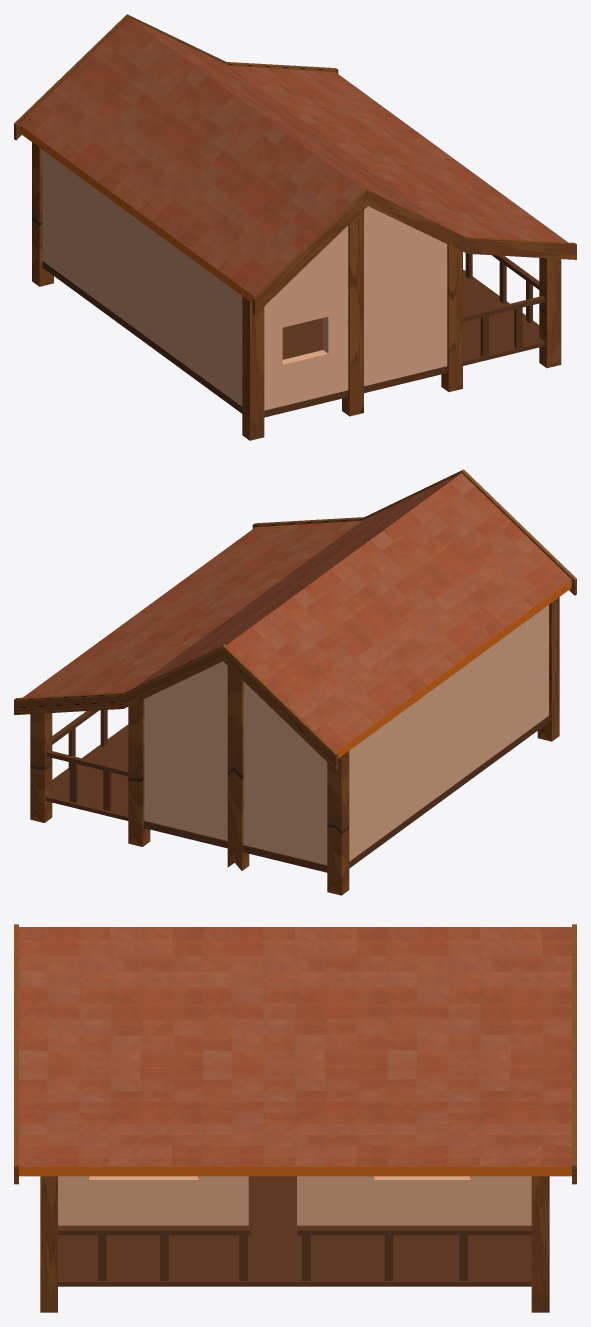
The model's file is cabin.glb.
3 renders of one model, top to bottom at view 1: azimuth 30°, elevation 25°; view 2: azimuth 150°, elevation 25°; view 3: azimuth 270°, elevation 25°, orthographic. The views are drawn at different scales.
Visible parts, largest first — view 1: roof, wall-back, wall-side, wall-side2, roof-sideboard, beam.002, floor, mat-wood-solid, beam, beam.001, beam.004, roof-sideboard.001 (+1 smaller); view 2: roof, wall-back, wall-side, wall-side3, roof-sideboard.001, beam.002, mat-wood-solid, beam, floor, beam.004, beam.001, roof-sideboard (+1 smaller); view 3: roof, mat-wood-solid, wall-front, beam.001, floor, bannister.003, bannister.002, roof-sideboard, roof-sideboard.001.
Boxes of the visible parts, bbox=[...] form: roof: bbox=[19, 18, 567, 303]; wall-back: bbox=[42, 150, 242, 406]; wall-side: bbox=[364, 206, 447, 386]; wall-side2: bbox=[264, 225, 348, 410]; roof-sideboard: bbox=[252, 189, 576, 314]; beam.002: bbox=[32, 142, 264, 440]; floor: bbox=[42, 261, 447, 417]; mat-wood-solid: bbox=[463, 269, 545, 365]; beam: bbox=[342, 210, 363, 416]; beam.001: bbox=[539, 258, 561, 368]; beam.004: bbox=[441, 244, 462, 391]; roof-sideboard.001: bbox=[14, 14, 338, 140]; roof: bbox=[23, 473, 571, 758]; wall-back: bbox=[349, 605, 548, 861]; wall-side: bbox=[144, 661, 227, 840]; wall-side3: bbox=[243, 681, 327, 864]; roof-sideboard.001: bbox=[14, 644, 338, 770]; beam.002: bbox=[327, 597, 559, 895]; mat-wood-solid: bbox=[45, 724, 128, 820]; beam: bbox=[227, 666, 249, 870]; floor: bbox=[143, 716, 548, 872]; beam.004: bbox=[128, 699, 150, 846]; beam.001: bbox=[30, 713, 52, 822]; roof-sideboard: bbox=[252, 469, 576, 595]; roof: bbox=[19, 927, 571, 1176]; mat-wood-solid: bbox=[58, 1225, 531, 1286]; wall-front: bbox=[58, 1176, 531, 1225]; beam.001: bbox=[40, 1176, 549, 1312]; floor: bbox=[248, 1176, 296, 1225]; bannister.003: bbox=[297, 1228, 531, 1235]; bannister.002: bbox=[58, 1228, 250, 1235]; roof-sideboard: bbox=[14, 924, 18, 1184]; roof-sideboard.001: bbox=[572, 924, 576, 1184].
Bounding box in the file's own units: 9.11 × 6.29 × 11.81.
5 materials, 2 textured.
